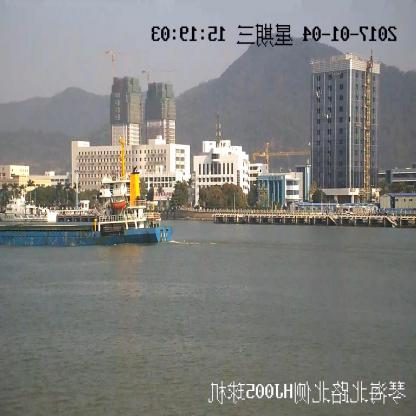Bulk Carrier: (0, 142, 172, 246)
